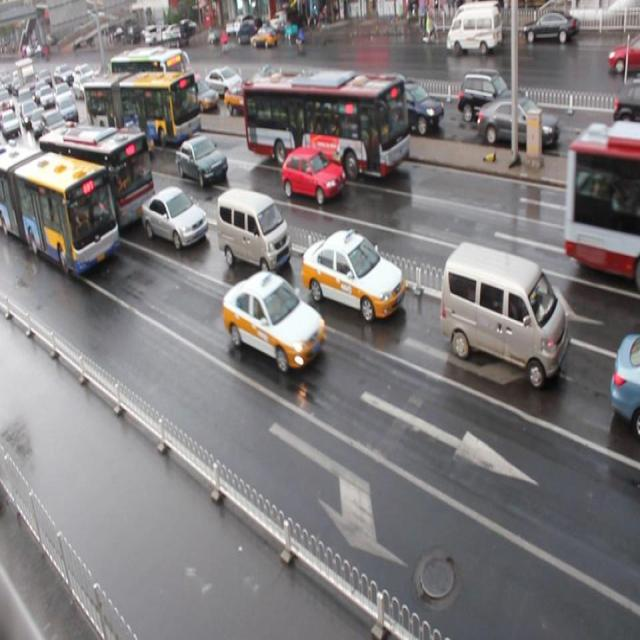car: (221, 271, 325, 369), (300, 228, 404, 321), (141, 185, 208, 250), (281, 146, 345, 204), (176, 134, 227, 185)
truck: (440, 240, 568, 386), (216, 186, 292, 276)
van: (243, 71, 408, 177), (1, 143, 120, 278), (563, 120, 640, 296), (38, 121, 156, 232), (86, 71, 202, 144)
